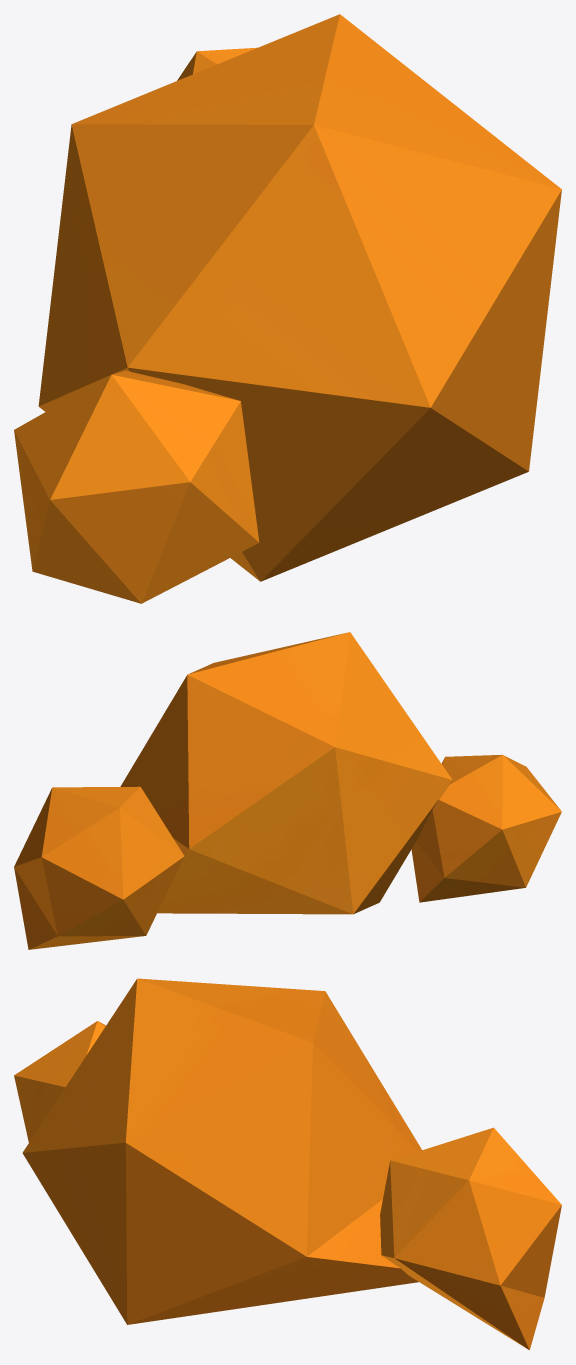
The model's file is Small_Rock_2.fbx.
3 renders of one model, top to bottom at view 1: azimuth 30°, elevation 25°; view 2: azimuth 150°, elevation 25°; view 3: azimuth 270°, elevation 25°, orthographic. The views are drawn at different scales.
Visible parts, largest first — view 1: Small_Rock_2; view 2: Small_Rock_2; view 3: Small_Rock_2.
Boxes of the visible parts, x1=… form: Small_Rock_2: x1=14, y1=14, x2=561, y2=603; Small_Rock_2: x1=14, y1=632, x2=561, y2=949; Small_Rock_2: x1=14, y1=978, x2=561, y2=1349.
Bounding box in the file's own units: 0.7723 × 0.5272 × 0.8375.
